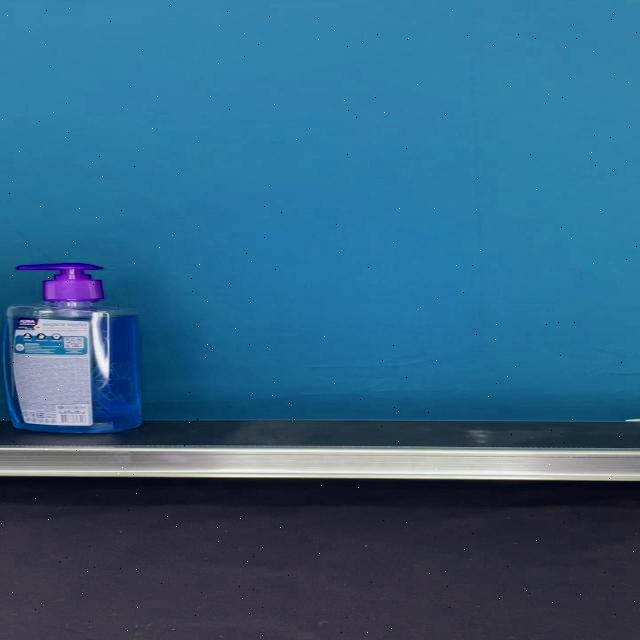Bottle: (4, 262, 142, 434)
Cap: (16, 262, 106, 301)
